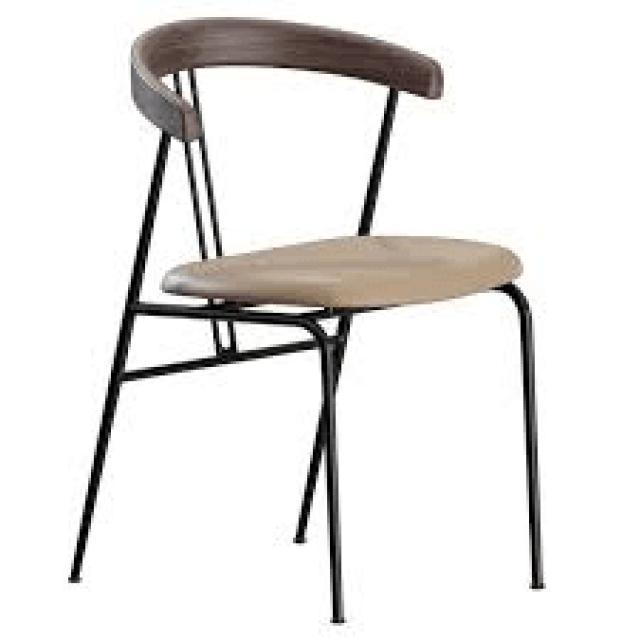chair: (66, 8, 550, 624), (124, 12, 546, 318)
